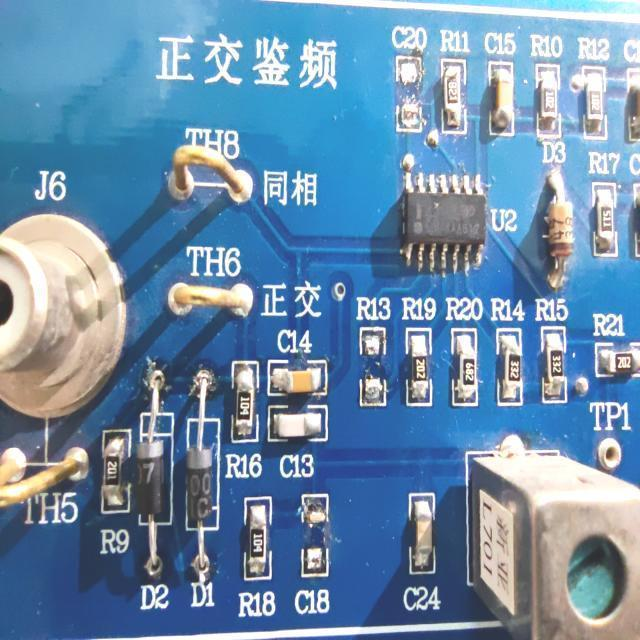Missing component: (293, 488, 336, 618), (352, 290, 393, 414), (390, 20, 430, 142)
